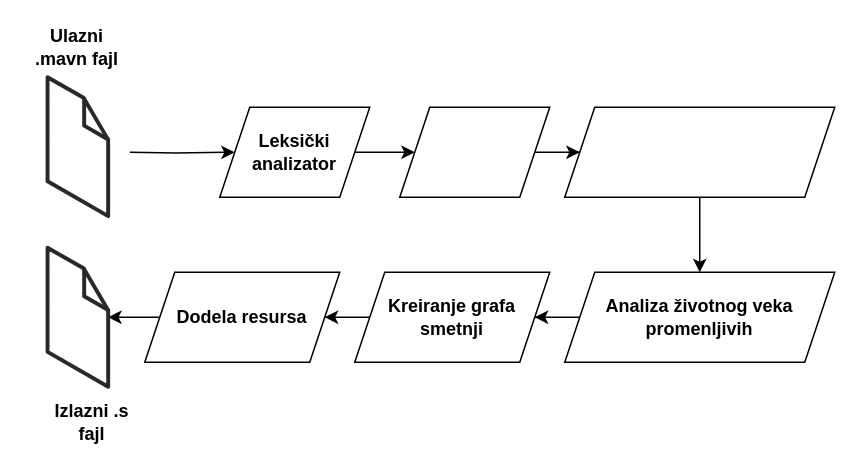
Image size: 863x470. Some labels were removed from this diagram. The shapes that lost their labels are listed below. From the top down, each one's centre as x and y in pixels, then its label:
At [474,151]: "Sintaksni analizator".
At [699,151]: "Kreiranje promenljivih, instrukcija, funkcija i labela".
